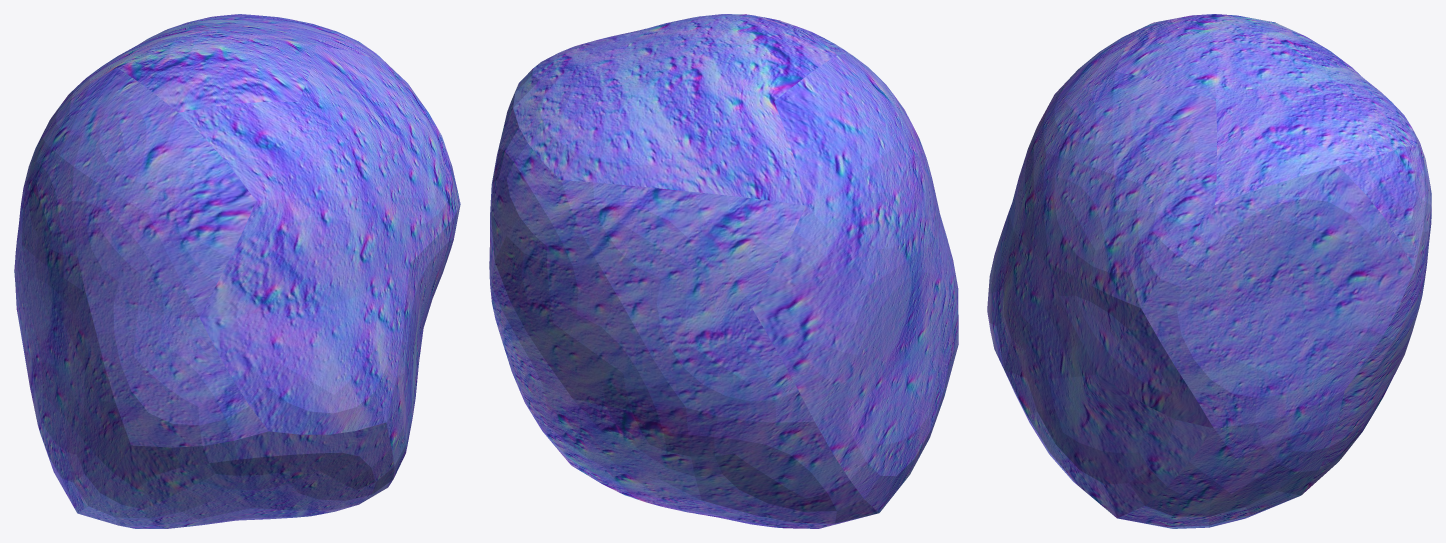
Rendered from bigasteroid2_LOD2.fbx.
3 views of the same model, side by side, from view 1: azimuth 30°, elevation 25°; view 2: azimuth 150°, elevation 25°; view 3: azimuth 270°, elevation 25° (orthographic). The views are drawn at different scales.
Parts seen in each view (by area): view 1: Icosphere; view 2: Icosphere; view 3: Icosphere.
Part boxes in pixels (x1,y1,x2,y2): Icosphere: [14, 14, 460, 528]; Icosphere: [489, 14, 958, 528]; Icosphere: [987, 14, 1431, 528].
Bounding box in the file's own units: 205 × 239 × 211.
